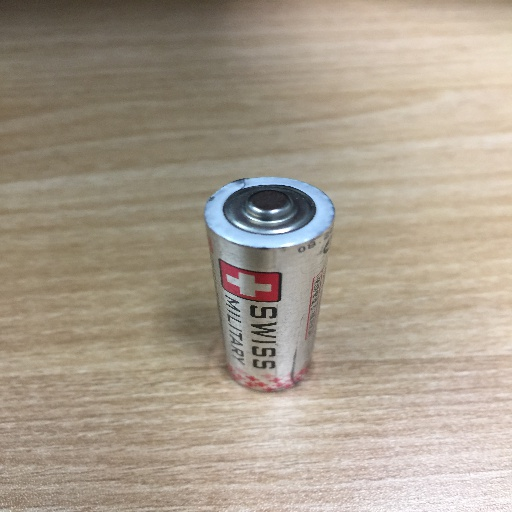Battery_0: (192, 163, 360, 397)
